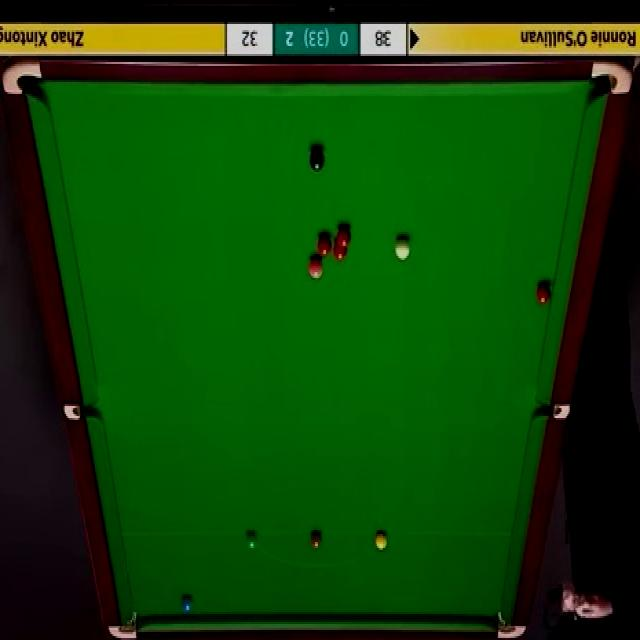black-ball: (309, 146, 326, 174)
blue-ball: (181, 596, 194, 613)
brown-ball: (309, 530, 324, 552)
green-ball: (245, 530, 260, 550)
pink-ball: (308, 256, 324, 280)
red-ball: (535, 282, 552, 304), (316, 234, 332, 257), (337, 226, 352, 249), (332, 241, 347, 262)
white-ball: (394, 235, 412, 262)
yellow-ball: (375, 531, 388, 552)
